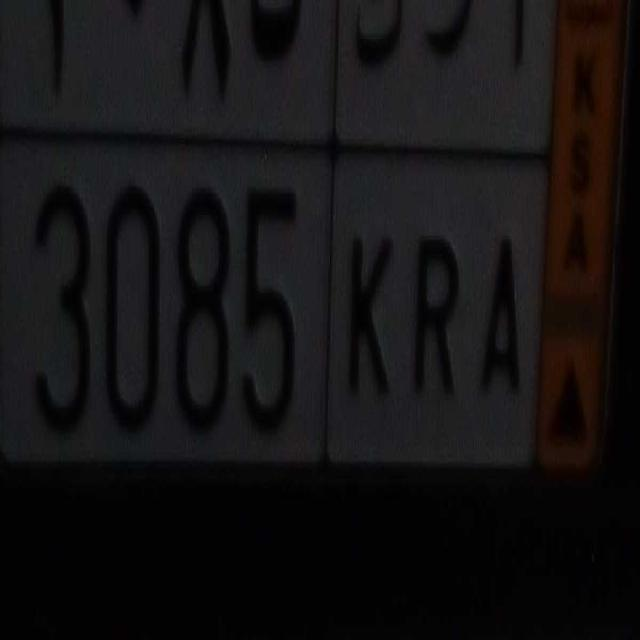license_plate: (11, 118, 537, 521)
